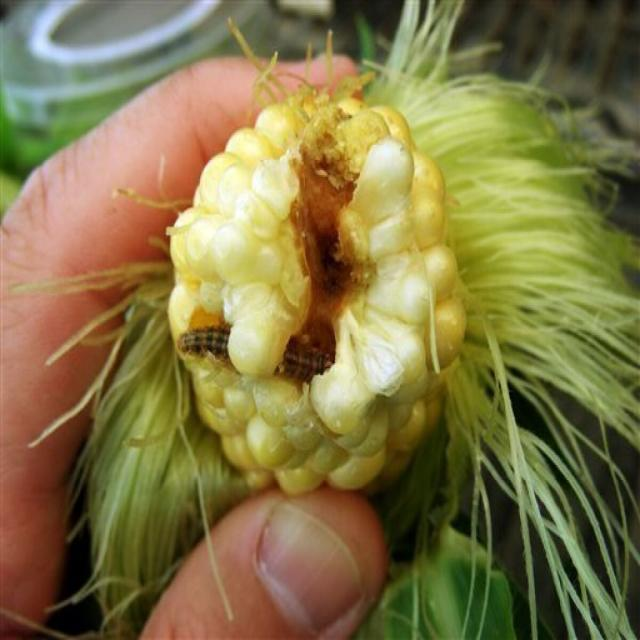cornborer-Larva-: (162, 321, 346, 388)
